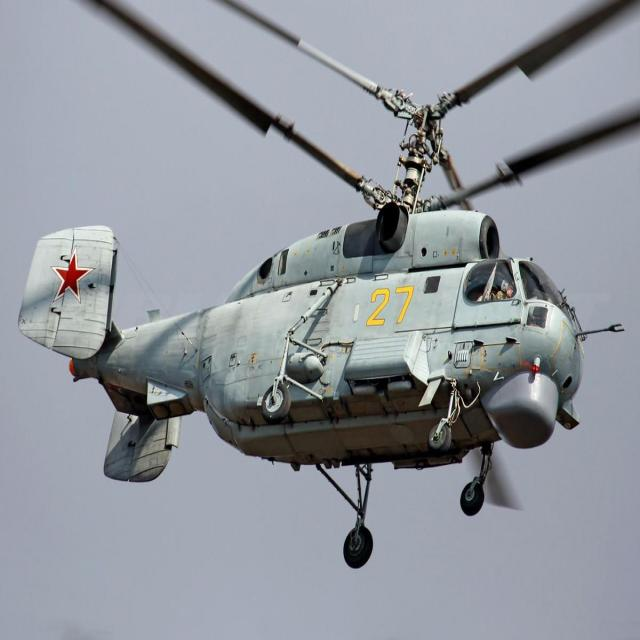MIL_HELO: (18, 0, 640, 589)
